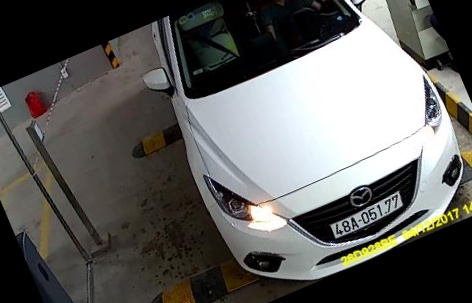plate: (326, 184, 406, 239)
